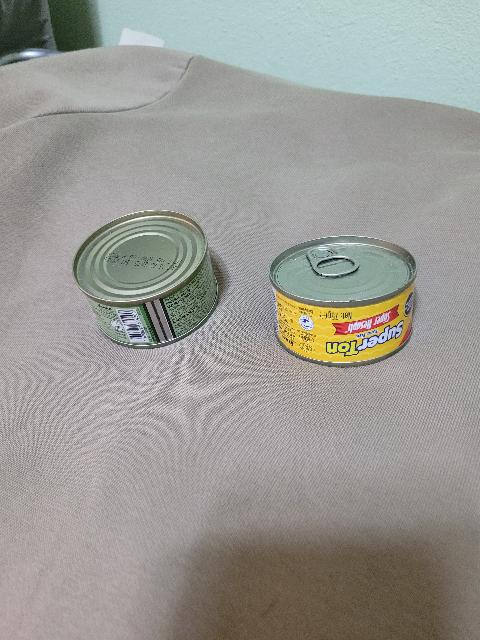Metal: (71, 208, 221, 349), (271, 237, 419, 366)
